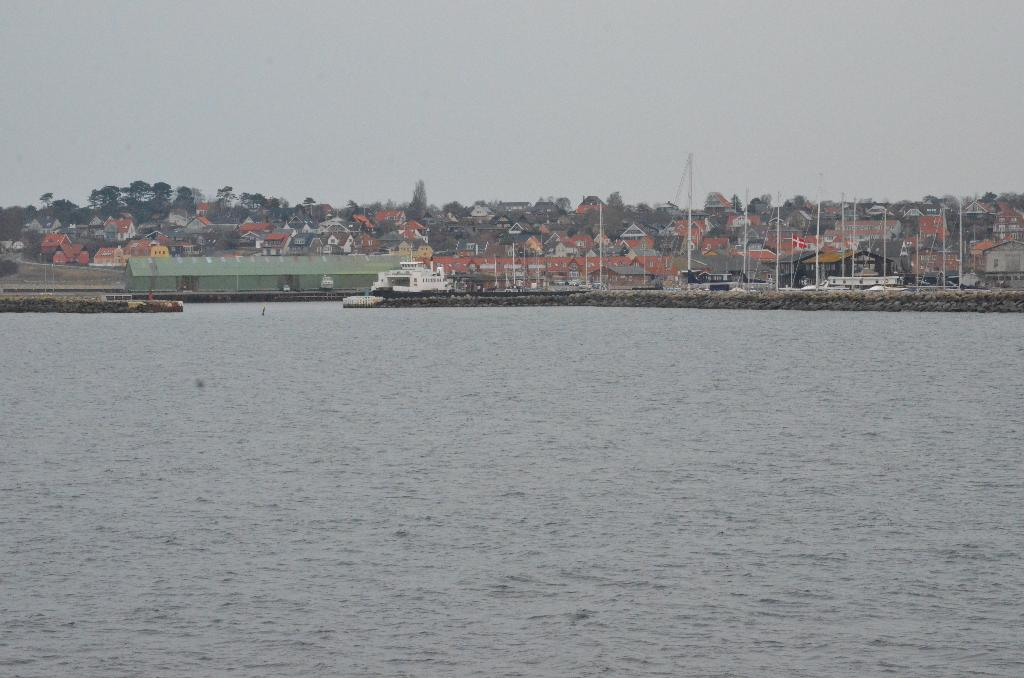PassengerShip: (366, 253, 458, 300)
